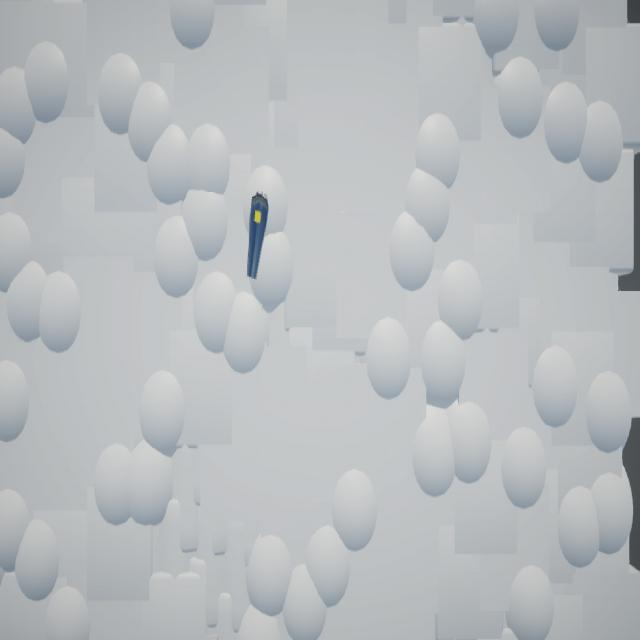handle_knife: (248, 192, 270, 281)
